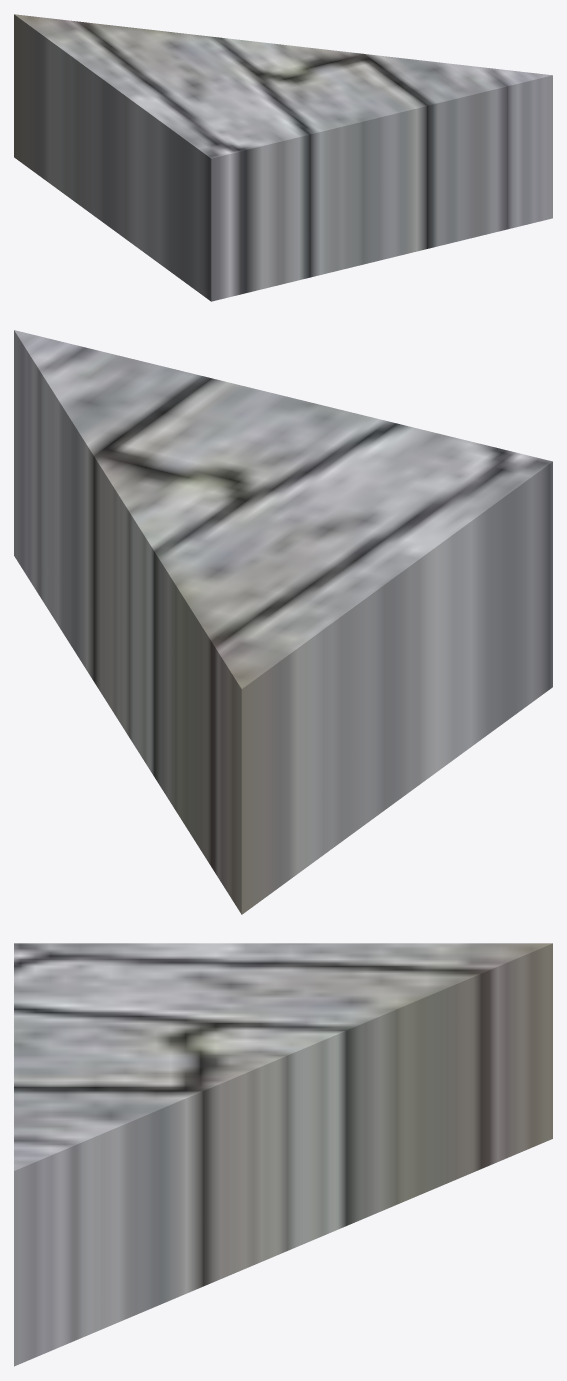
The model's file is InnerTrianglePlane.FBX.
The picture shows the model from 3 angles, top to bottom: view 1: azimuth 30°, elevation 25°; view 2: azimuth 150°, elevation 25°; view 3: azimuth 270°, elevation 25°; orthographic projection. The views are drawn at different scales.
Parts seen in each view (by area): view 1: TriangleCollider; view 2: TriangleCollider; view 3: TriangleCollider.
Part boxes in pixels (box(x1,y1,x2,y2)): TriangleCollider: box(14, 14, 552, 301); TriangleCollider: box(14, 330, 552, 914); TriangleCollider: box(14, 943, 552, 1366).
Bounding box in the file's own units: 24.99 × 10 × 24.99.
1 material, 1 textured.
